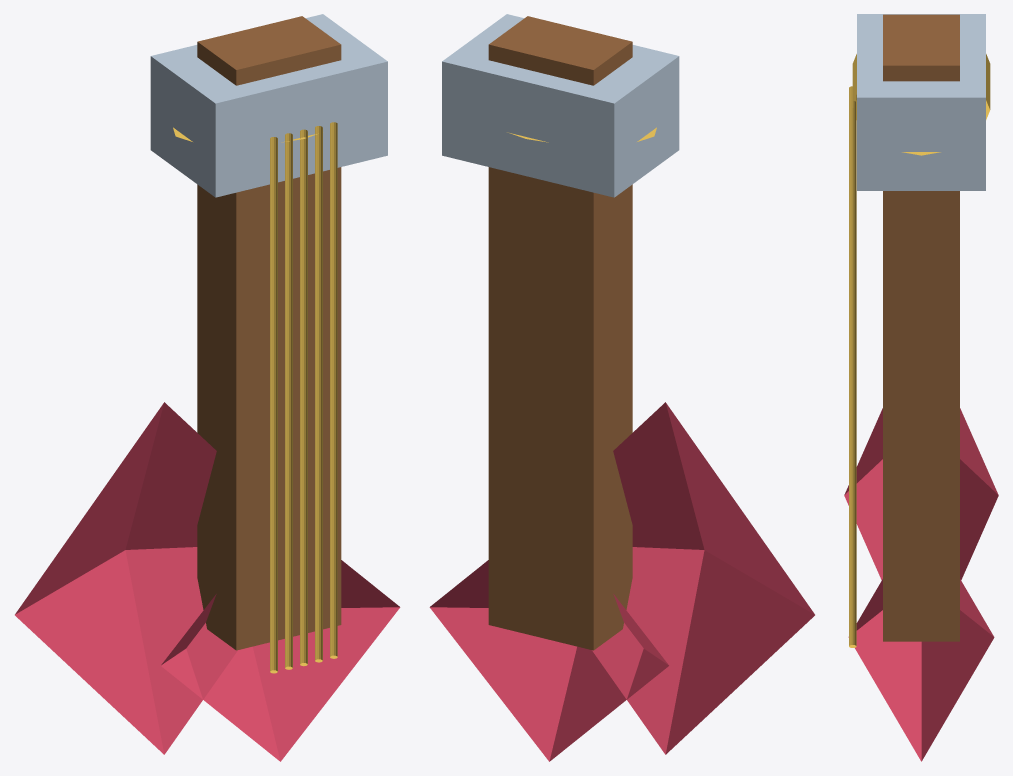
File: minglora_electric_guitar.gltf
3 views of the same model, side by side, from view 1: azimuth 30°, elevation 25°; view 2: azimuth 150°, elevation 25°; view 3: azimuth 270°, elevation 25° (orthographic).
Parts seen in each view (by area): view 1: minglora_electric_guitar_2, minglora_electric_guitar_0, minglora_electric_guitar_3, minglora_electric_guitar_1, minglora_electric_guitar_5, minglora_electric_guitar_8, minglora_electric_guitar_7, minglora_electric_guitar_4, minglora_electric_guitar_6; view 2: minglora_electric_guitar_2, minglora_electric_guitar_0, minglora_electric_guitar_3, minglora_electric_guitar_1; view 3: minglora_electric_guitar_2, minglora_electric_guitar_3, minglora_electric_guitar_1, minglora_electric_guitar_0, minglora_electric_guitar_8, minglora_electric_guitar_9.
Part boxes in pixels (x1=…): minglora_electric_guitar_2: x1=197, y1=16, x2=341, y2=650; minglora_electric_guitar_0: x1=15, y1=402, x2=237, y2=754; minglora_electric_guitar_3: x1=150, y1=14, x2=387, y2=197; minglora_electric_guitar_1: x1=161, y1=560, x2=400, y2=761; minglora_electric_guitar_5: x1=285, y1=133, x2=292, y2=669; minglora_electric_guitar_8: x1=330, y1=122, x2=337, y2=658; minglora_electric_guitar_7: x1=315, y1=126, x2=322, y2=662; minglora_electric_guitar_4: x1=270, y1=137, x2=277, y2=673; minglora_electric_guitar_6: x1=300, y1=129, x2=307, y2=666; minglora_electric_guitar_2: x1=488, y1=16, x2=632, y2=650; minglora_electric_guitar_0: x1=592, y1=402, x2=814, y2=754; minglora_electric_guitar_3: x1=442, y1=14, x2=679, y2=197; minglora_electric_guitar_1: x1=429, y1=560, x2=668, y2=761; minglora_electric_guitar_2: x1=883, y1=14, x2=959, y2=641; minglora_electric_guitar_3: x1=857, y1=14, x2=985, y2=190; minglora_electric_guitar_1: x1=848, y1=579, x2=994, y2=761; minglora_electric_guitar_0: x1=844, y1=408, x2=998, y2=579; minglora_electric_guitar_8: x1=849, y1=115, x2=856, y2=647; minglora_electric_guitar_9: x1=852, y1=54, x2=990, y2=155.
Bounding box in the file's own units: 1.03 × 1.84 × 0.36.
